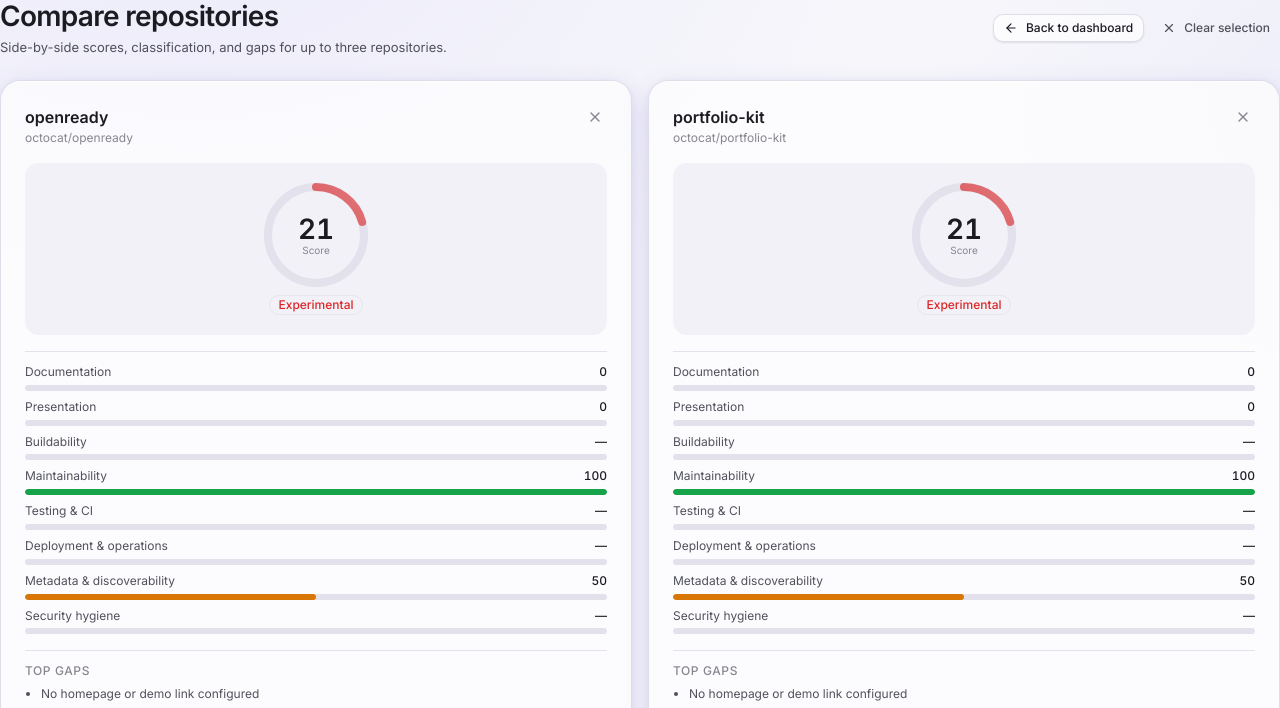
Test: CompareRoute › renders selected repositories and removes a comparison column
The width and height of the screenshot is (1280, 708).
Expected: the link "openready" is shown, [25,107,108,127]
Expected: the link "portfolio-kit" is shown, [673,107,765,127]
Click the button named "Remove openready from comparison" at (595,117), box [583,105,607,129]
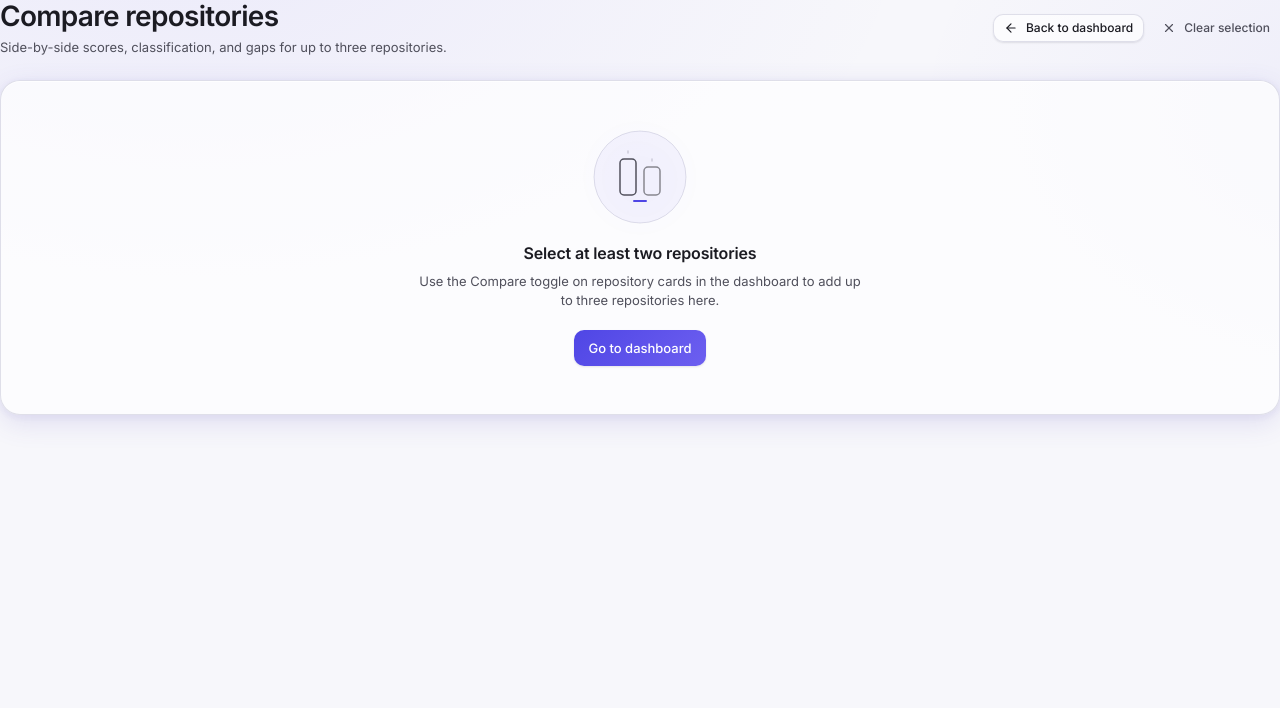
Result: the link "openready" is gone
Result: the heading "Select at least two repositories" is shown at [524,241,756,266]
